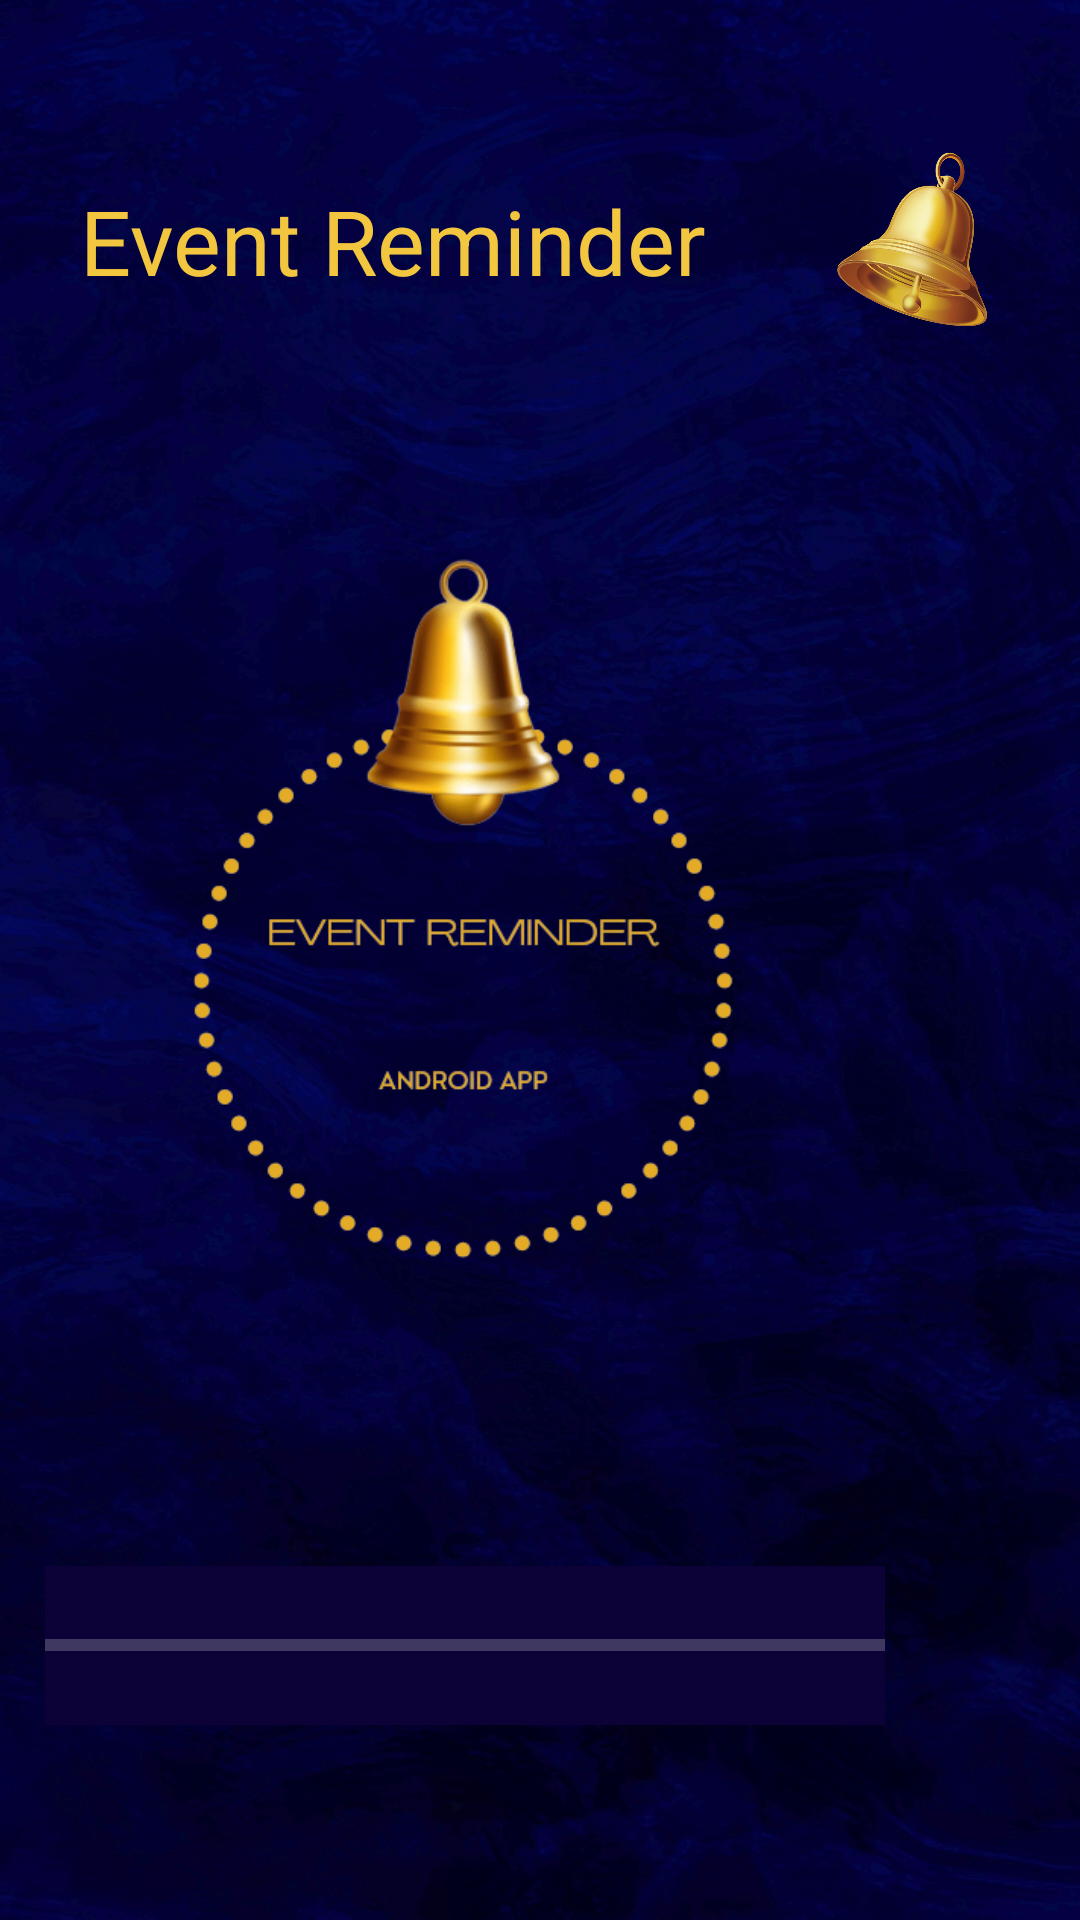

Screen size 1080 × 1920. Icon name, then its center in pixels as (x=x, y=y):
bell: (x=898, y=244)
